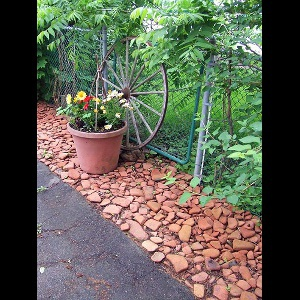flowerpot: (65, 112, 128, 176)
